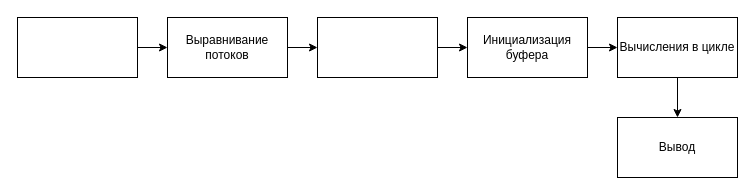
This 755x195 diagram has some shape labels left out. The shapes that lost their labels are listed below. From the top down, each one's box as (x1, y1, x2, y2) in pixels, then its label:
(16, 16, 138, 78): Ввод данных
(316, 16, 438, 78): Добавление длины сообщения
